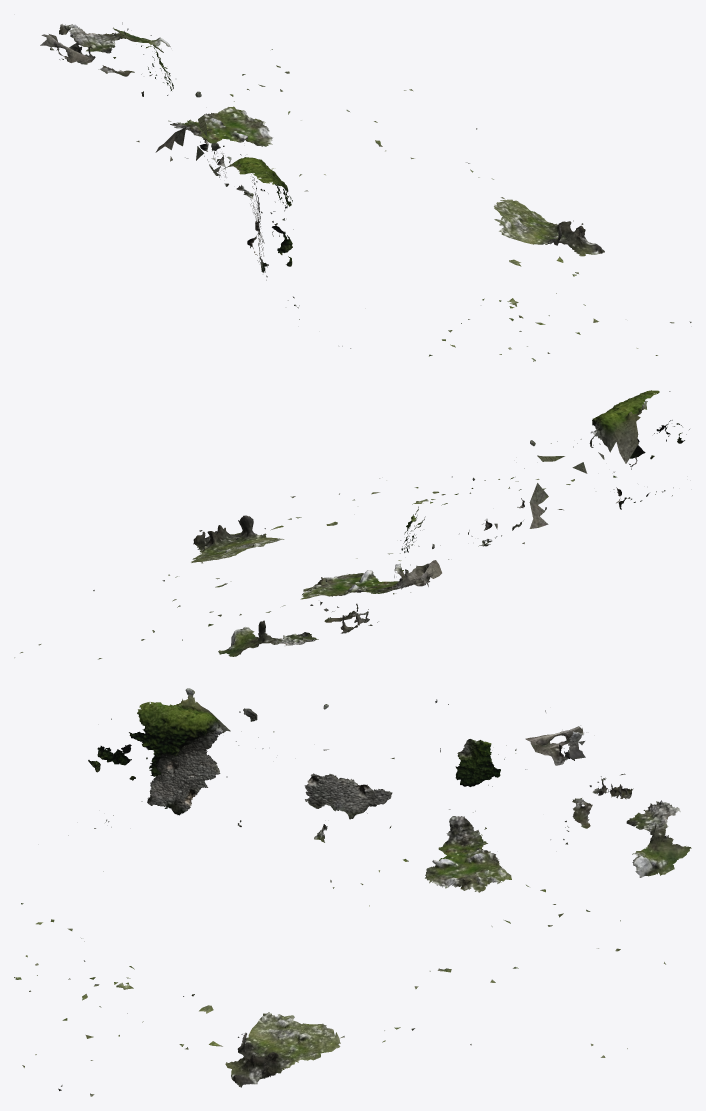
3 renders of one model, top to bottom at view 1: azimuth 30°, elevation 25°; view 2: azimuth 150°, elevation 25°; view 3: azimuth 270°, elevation 25°, orthographic. The views are drawn at different scales.
Size of the model in its own units: 32.08 by 17.8 by 47.36.
Materials: 1 (1 with a texture image).
